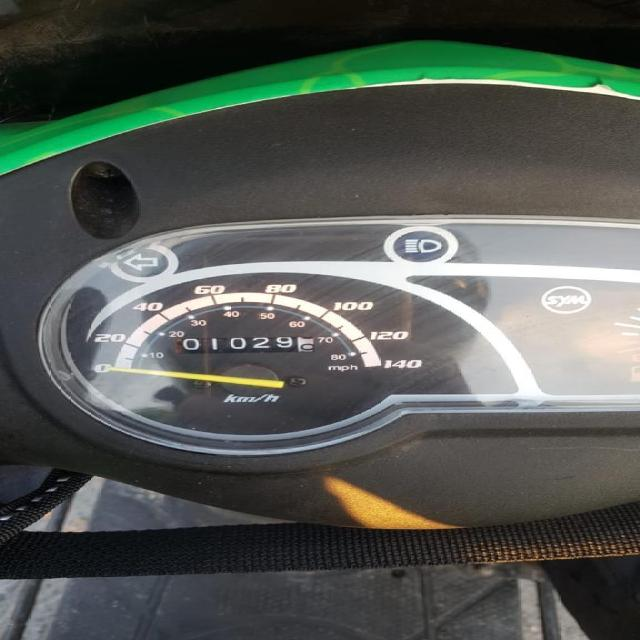odometer: (171, 334, 317, 355)
